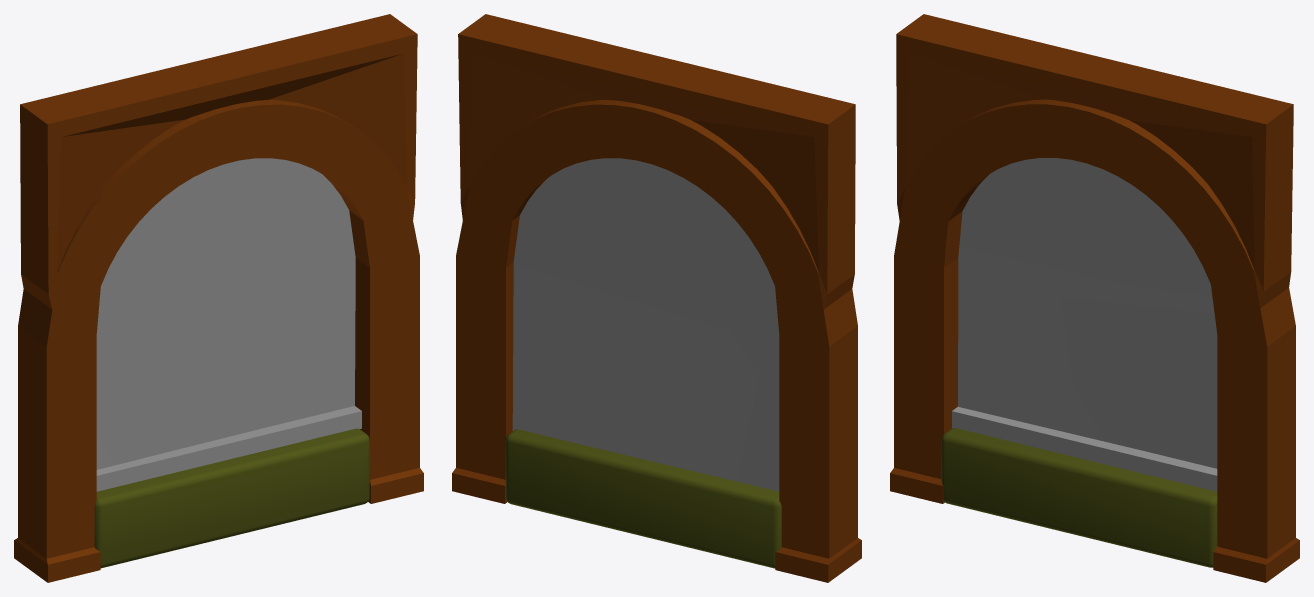
Rendered from Arcade_Columna.FBX.
3 views of the same model, side by side, from view 1: azimuth 30°, elevation 25°; view 2: azimuth 150°, elevation 25°; view 3: azimuth 330°, elevation 25° (orthographic).
Parts seen in each view (by area): view 1: Columna_Tiendas_Z; view 2: Columna_Tiendas_Z; view 3: Columna_Tiendas_Z.
Part boxes in pixels (box(x1,y1,x2,y2)): Columna_Tiendas_Z: box(14, 14, 423, 582); Columna_Tiendas_Z: box(452, 14, 861, 582); Columna_Tiendas_Z: box(890, 14, 1299, 582).
Bounding box in the file's own units: 60.57 × 70.26 × 9.48.
